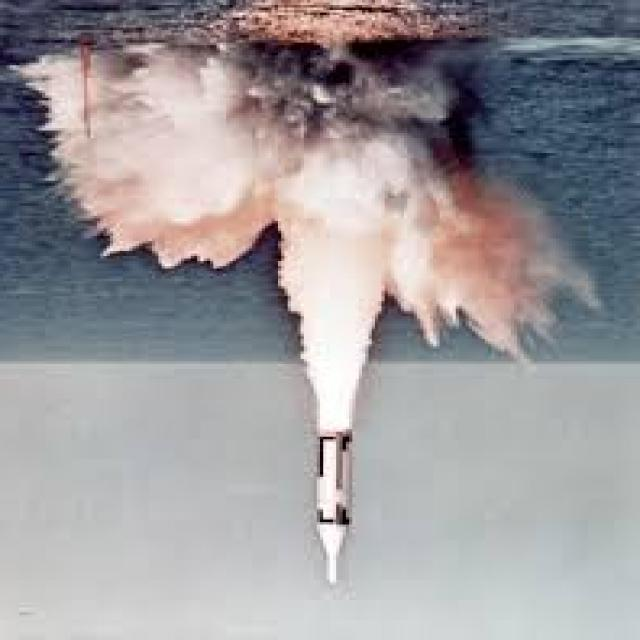Missile: (307, 430, 355, 586), (313, 434, 356, 568)
